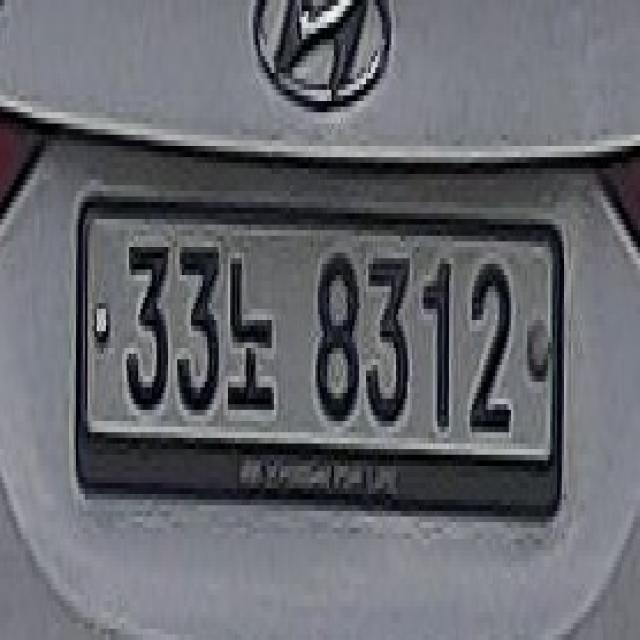plat: (72, 188, 568, 516)
